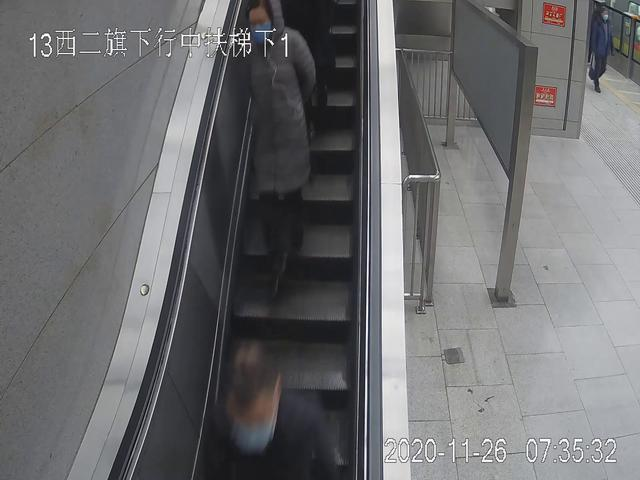person: (242, 1, 316, 303), (589, 6, 614, 92)
